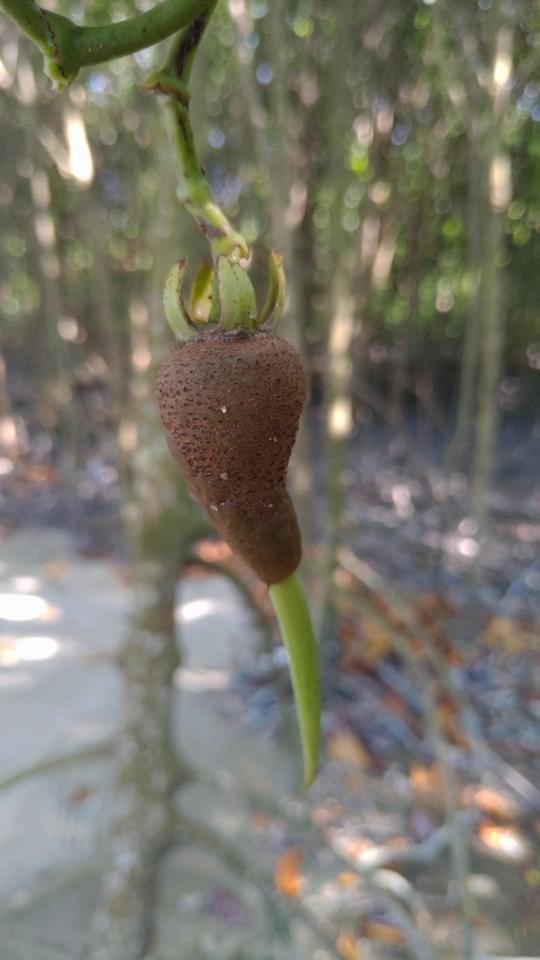mentah: (138, 238, 354, 792)
